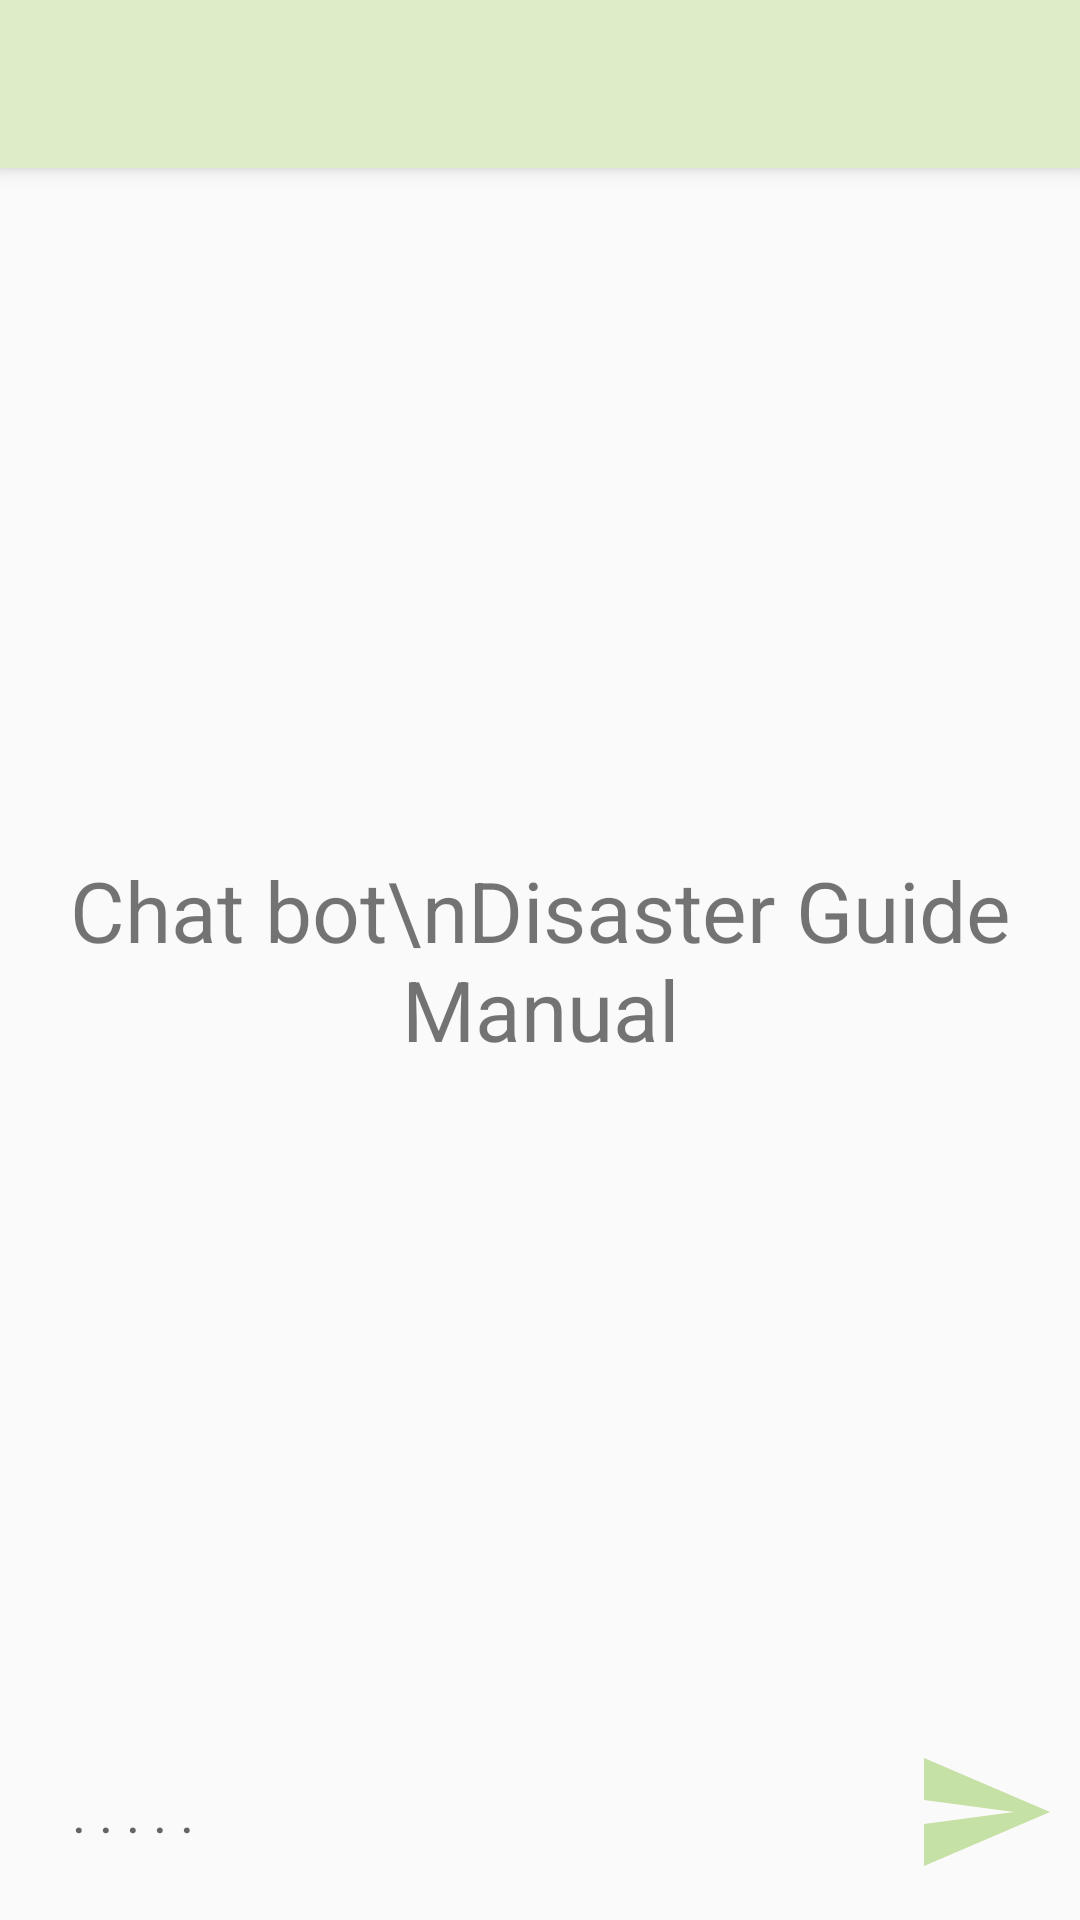

Icons on this 1080 × 1920 Android screen, each with its box as (left=x1, top=y1, right=x2, bottom=y2):
send: (left=924, top=1758, right=1049, bottom=1866)
